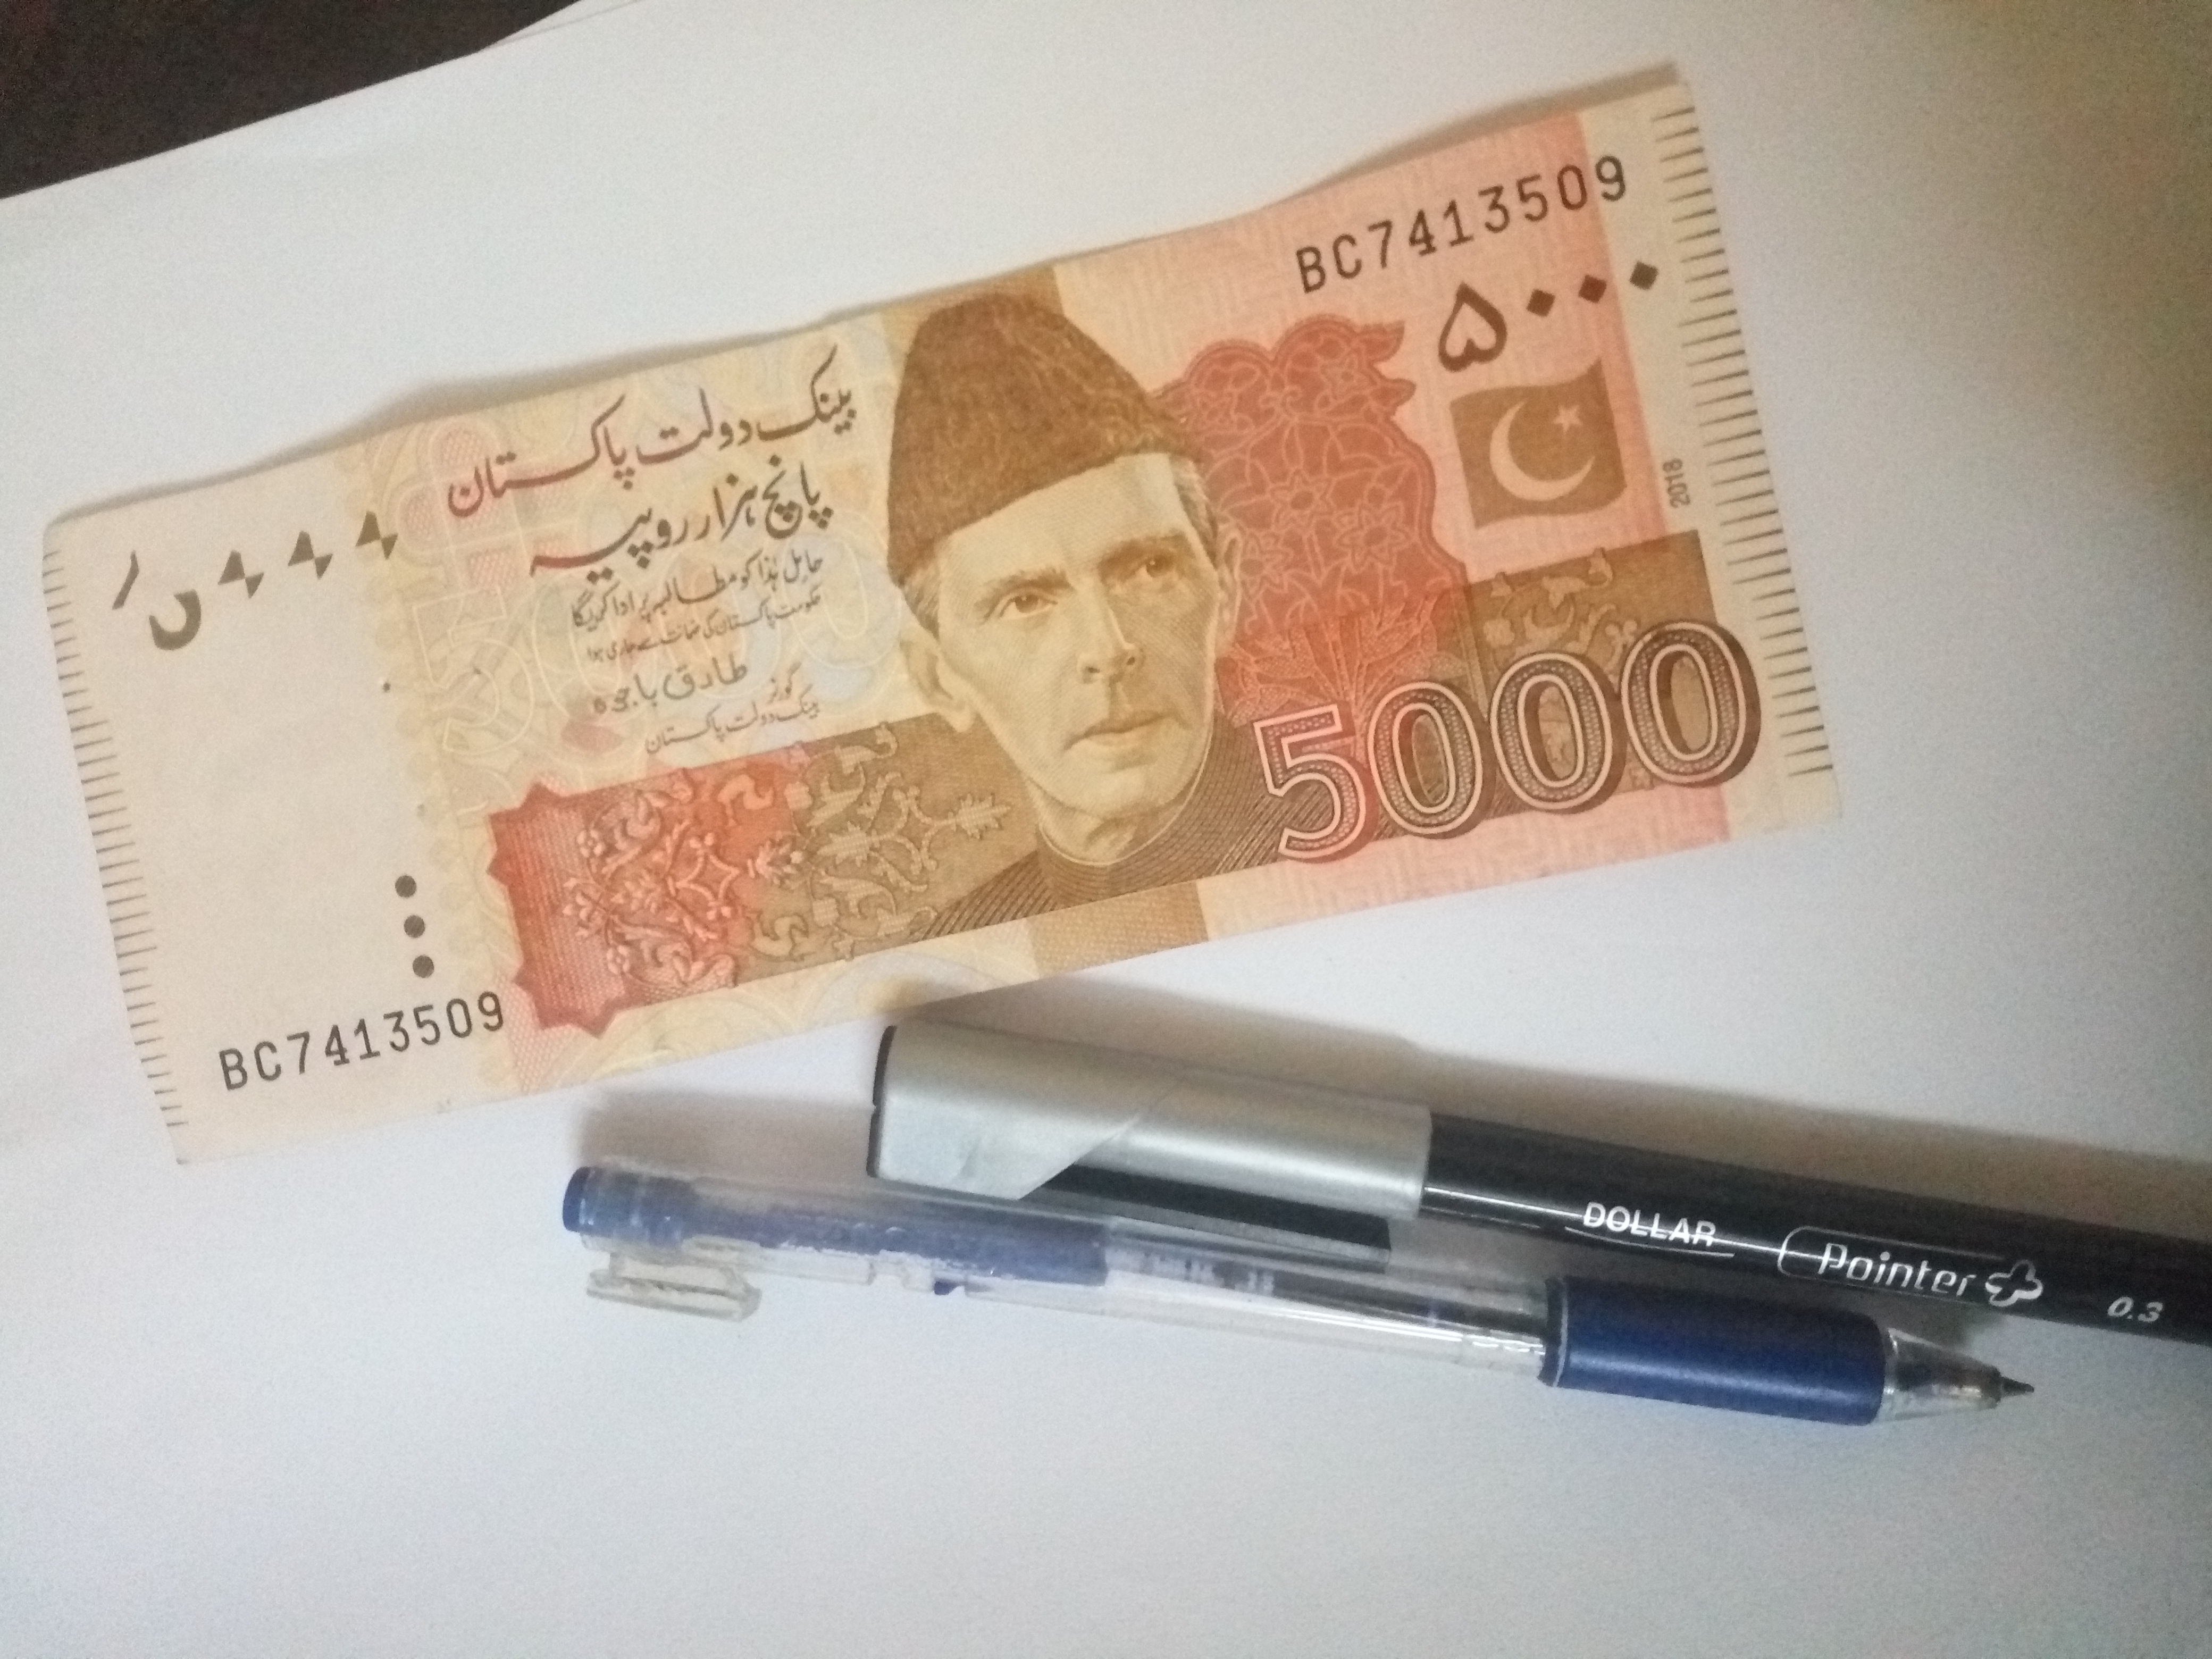5000 rupee: (106, 127, 1848, 1133)
